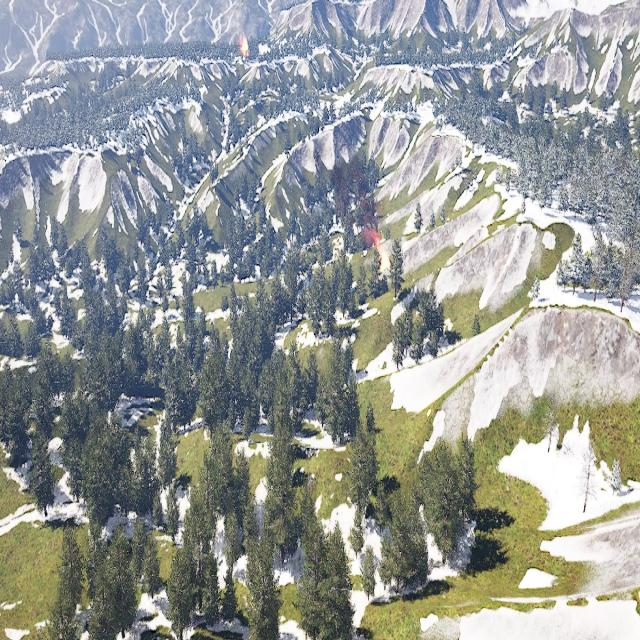fire: (374, 237, 384, 260), (380, 252, 390, 270), (241, 37, 250, 55)
smoke: (353, 192, 380, 247), (236, 4, 251, 39)
